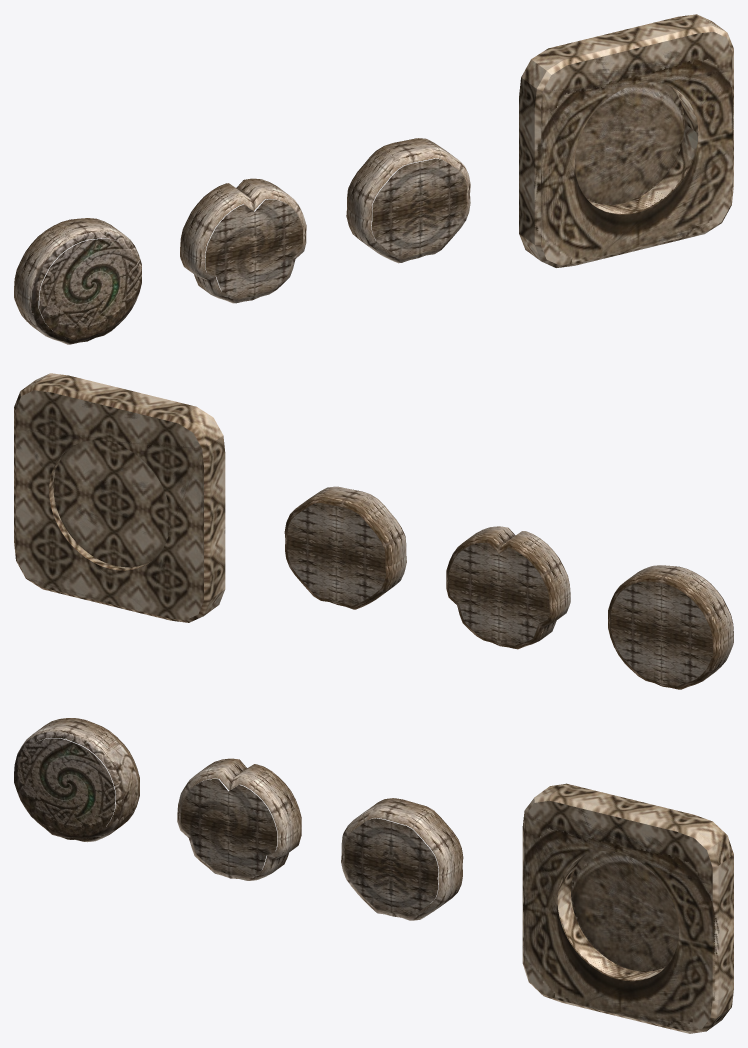
Rendered from lf_artifact_stone_rune_layout_qa.glb.
3 renders of one model, top to bottom at view 1: azimuth 30°, elevation 25°; view 2: azimuth 150°, elevation 25°; view 3: azimuth 330°, elevation 25°, orthographic.
Parts seen in each view (by area): view 1: lf_artifact_stone_rune_socket_LOD0, lf_artifact_stone_rune_v1_LOD0, lf_artifact_stone_rune_v2_LOD0, lf_artifact_stone_rune_v3_LOD0; view 2: lf_artifact_stone_rune_socket_LOD0, lf_artifact_stone_rune_v1_LOD0, lf_artifact_stone_rune_v2_LOD0, lf_artifact_stone_rune_v3_LOD0; view 3: lf_artifact_stone_rune_socket_LOD0, lf_artifact_stone_rune_v1_LOD0, lf_artifact_stone_rune_v2_LOD0, lf_artifact_stone_rune_v3_LOD0.
Boxes of the visible parts, x1,y1,x2,y2 form: lf_artifact_stone_rune_socket_LOD0: (519, 14, 733, 267); lf_artifact_stone_rune_v1_LOD0: (14, 218, 141, 344); lf_artifact_stone_rune_v2_LOD0: (180, 178, 306, 303); lf_artifact_stone_rune_v3_LOD0: (346, 138, 470, 263); lf_artifact_stone_rune_socket_LOD0: (14, 373, 225, 622); lf_artifact_stone_rune_v1_LOD0: (608, 565, 733, 689); lf_artifact_stone_rune_v2_LOD0: (446, 526, 570, 649); lf_artifact_stone_rune_v3_LOD0: (284, 486, 406, 609); lf_artifact_stone_rune_socket_LOD0: (522, 783, 733, 1033); lf_artifact_stone_rune_v1_LOD0: (14, 718, 139, 842); lf_artifact_stone_rune_v2_LOD0: (177, 758, 301, 880); lf_artifact_stone_rune_v3_LOD0: (341, 798, 463, 920).
Size of what is drawn, in the model's own units: 0.7314 by 0.205 by 0.0497.
Materials: 1 (1 with a texture image).
